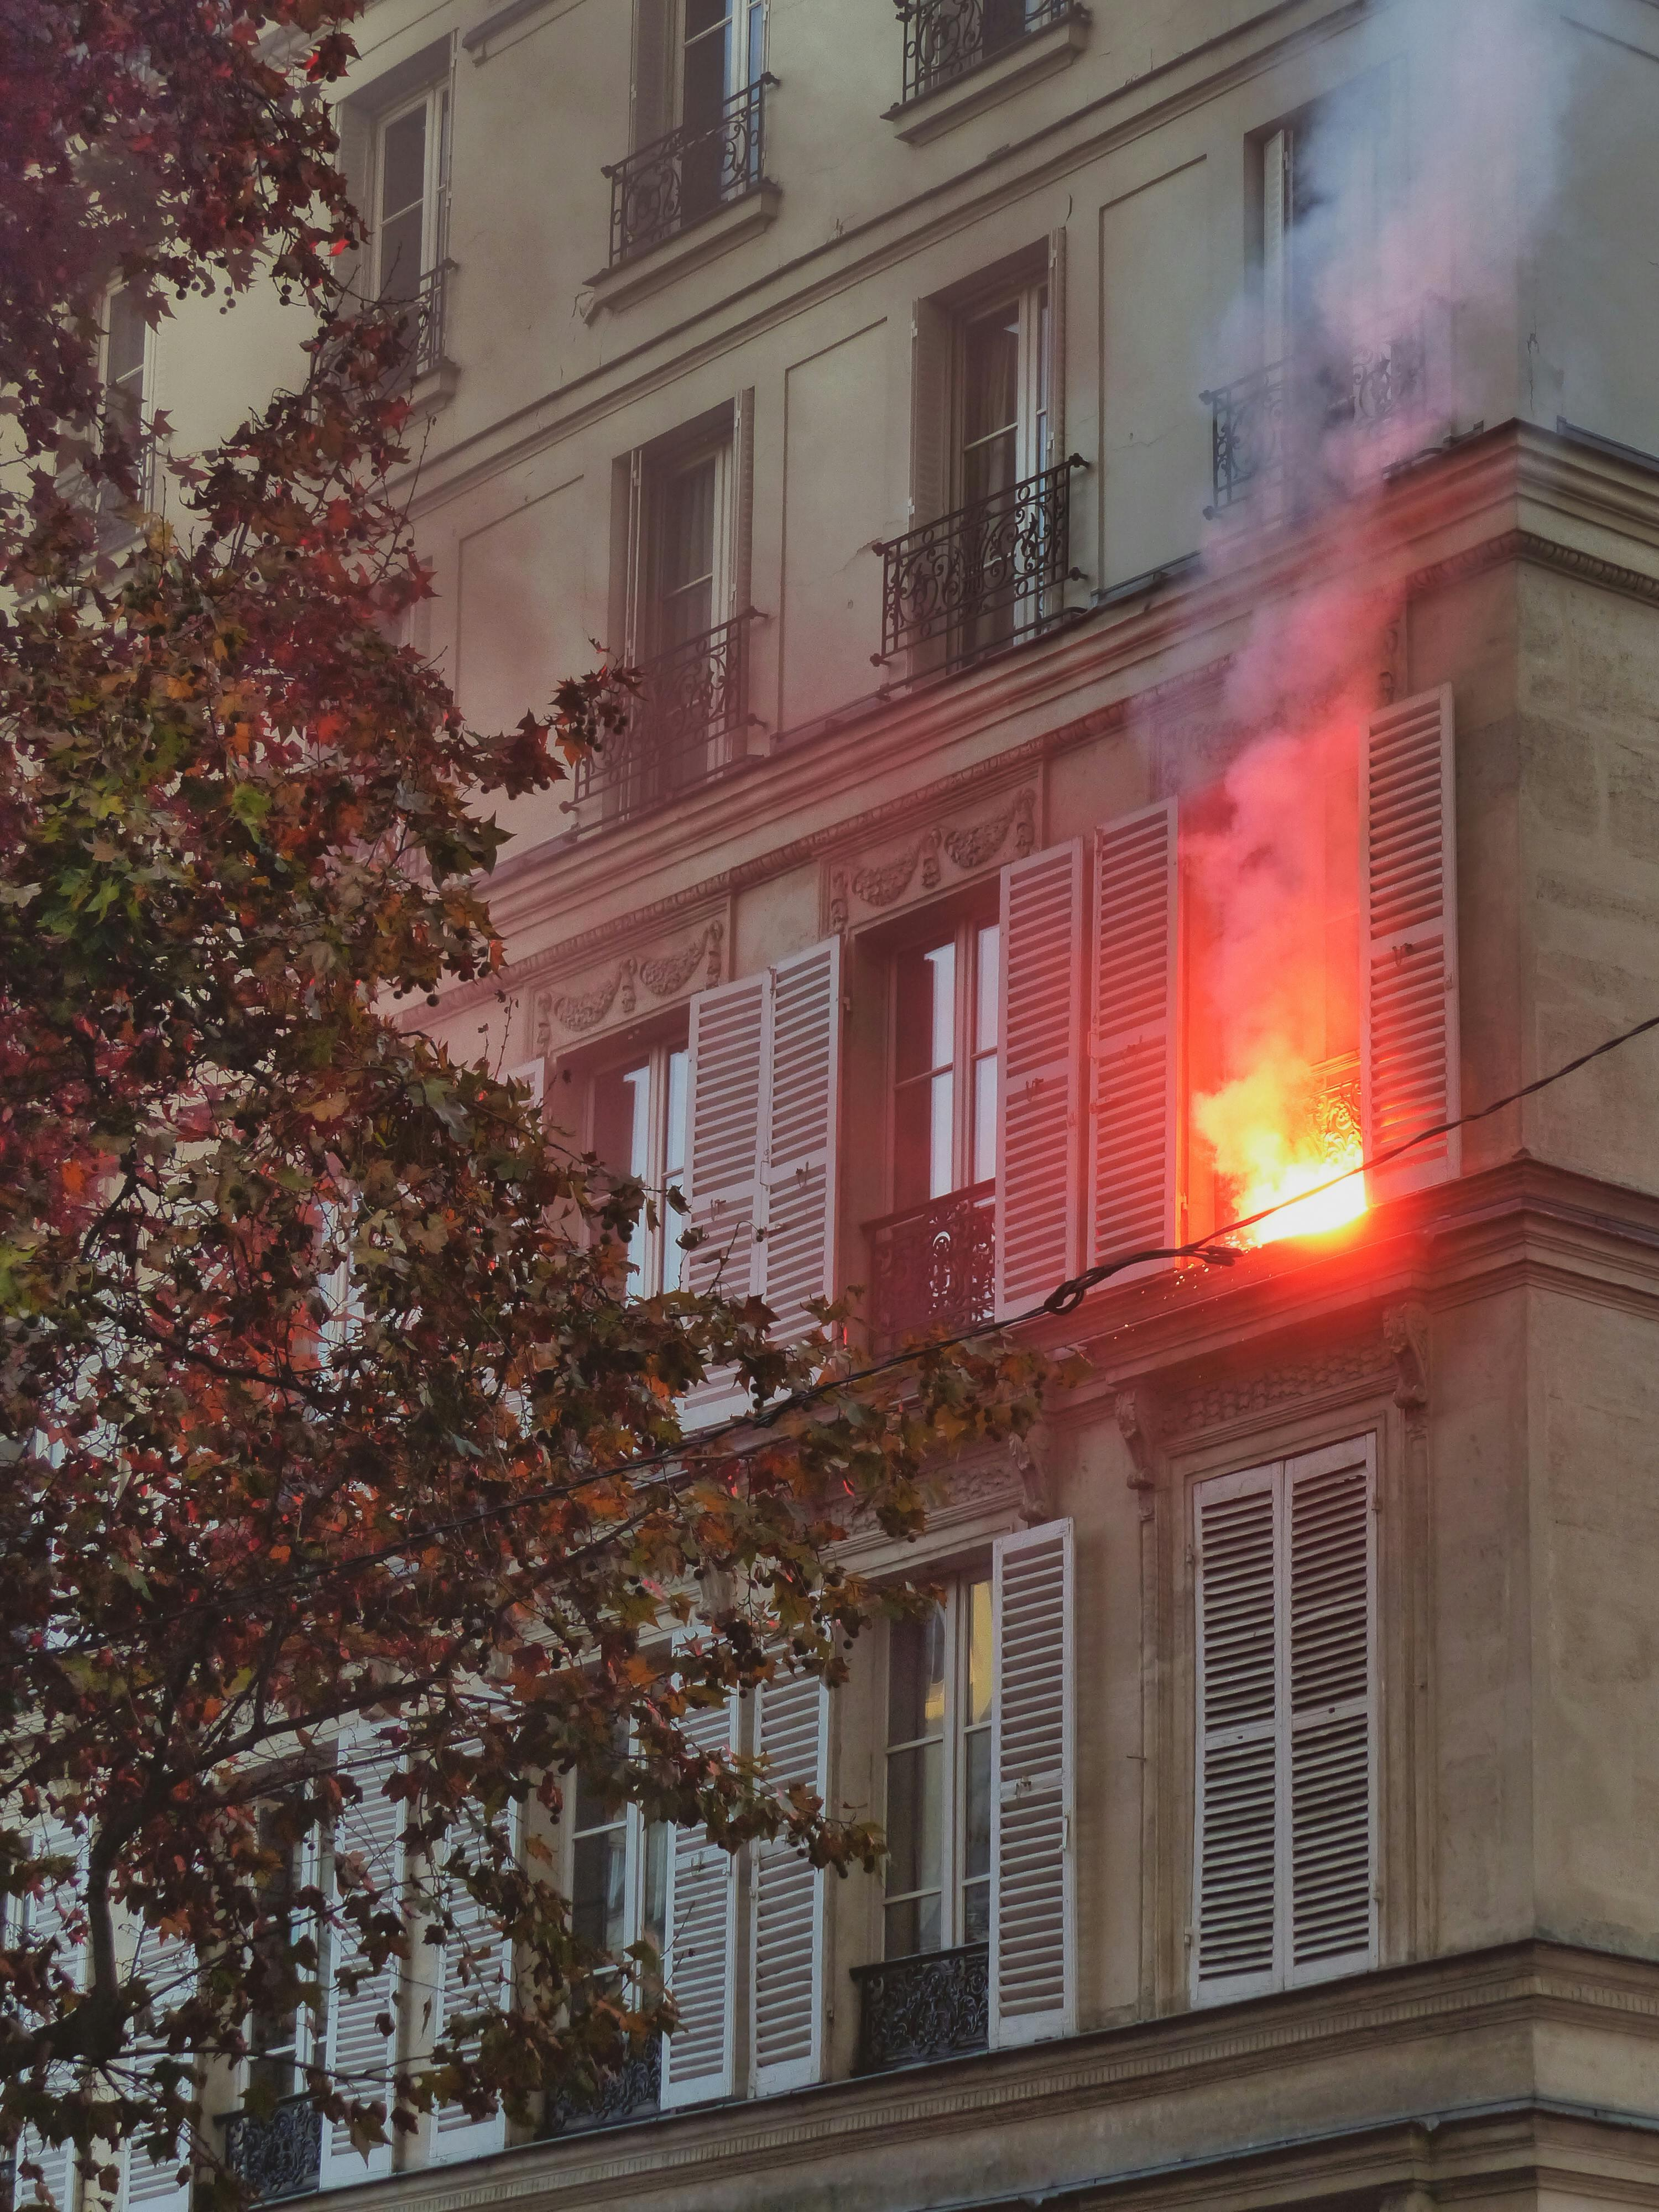Fire: (1152, 981, 1434, 1298)
